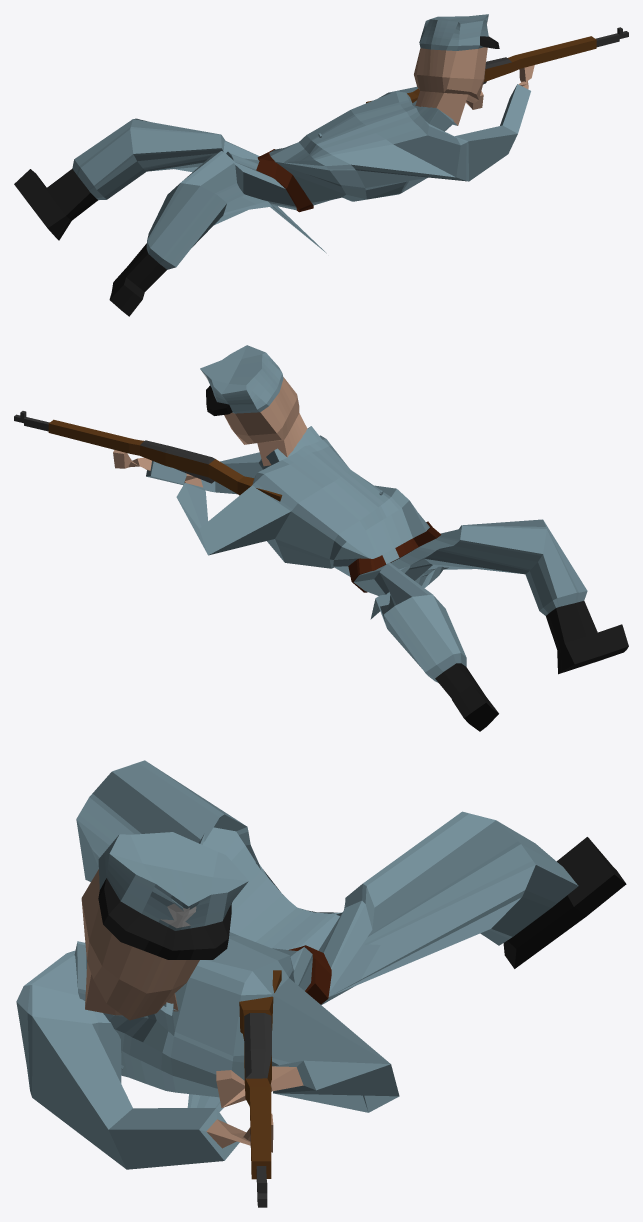
File: ZolnierzPL2.fbx
3 views of the same model, one above another, from view 1: azimuth 30°, elevation 25°; view 2: azimuth 150°, elevation 25°; view 3: azimuth 270°, elevation 25° (orthographic). The views are drawn at different scales.
Visible parts, largest first — view 1: Sold.000, Mauser; view 2: Sold.000, Mauser; view 3: Sold.000, Mauser.
Boxes of the visible parts, left/top/right/bottom form: Sold.000: left=14, top=14, right=534, bottom=316; Mauser: left=366, top=27, right=628, bottom=103; Sold.000: left=113, top=345, right=628, bottom=731; Mauser: left=14, top=411, right=282, bottom=501; Sold.000: left=16, top=760, right=626, bottom=1169; Mauser: left=239, top=970, right=281, bottom=1207.
Bounding box in the file's own units: 640 × 239 × 307.
